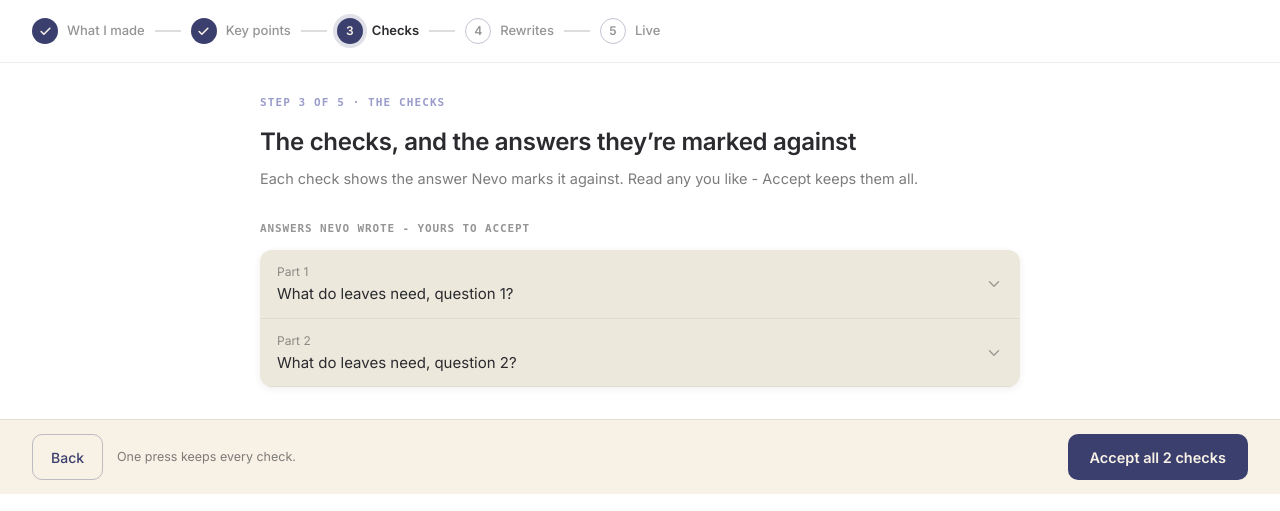
Test: the one press › says the server's refusal in words when it sends only a code
Expected: the navigation bar named "Lesson review steps" is shown, [0,0,1279,63]
Step 1. Click the button "Accept all 2 checks" → [1158, 458], box [1068,434,1248,480]
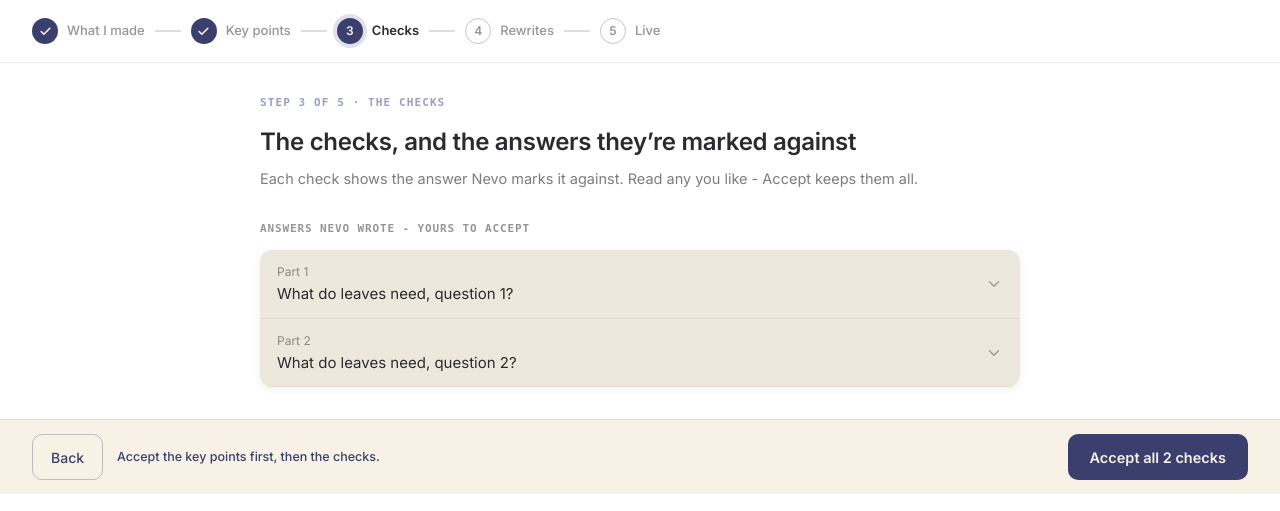
Expected: the message reads "Accept the key points first, then the checks.", [117,449,380,464]
